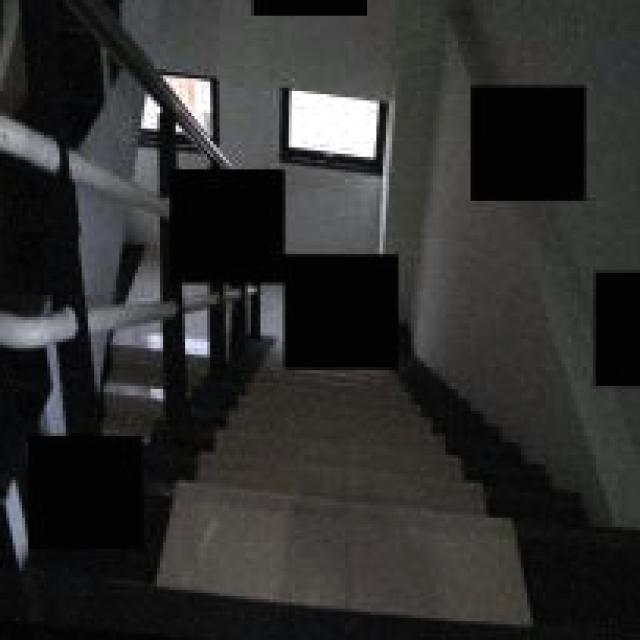downstair: (217, 396, 572, 640)
